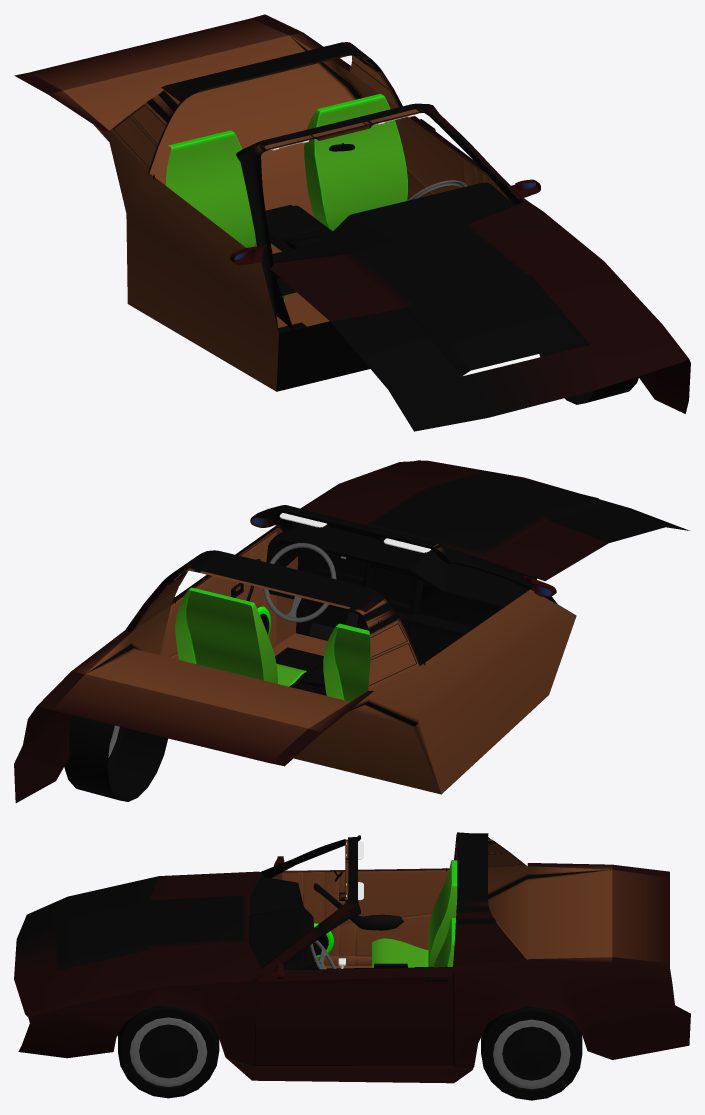
Rendered from CarGroup.fbx.
3 views of the same model, one above another, from view 1: azimuth 30°, elevation 25°; view 2: azimuth 150°, elevation 25°; view 3: azimuth 270°, elevation 25° (orthographic). The views are drawn at different scales.
Parts seen in each view (by area): view 1: body, interior, frontWheel; view 2: body, interior, rearWheel, steeringWheel; view 3: body, interior, rearWheel, frontWheel.
Boxes of the visible parts, x1,y1,x2,y2 form: body: (14,14,690,431); interior: (150,93,540,330); frontWheel: (539,343,638,404); body: (14,460,689,802); interior: (160,514,557,701); rearWheel: (64,715,168,801); steeringWheel: (263,542,336,622); body: (14,832,690,1083); interior: (248,856,457,979); rearWheel: (481,1006,582,1100); frontWheel: (118,1005,219,1098).
Size of the model in its own units: 202 by 139 by 479.
